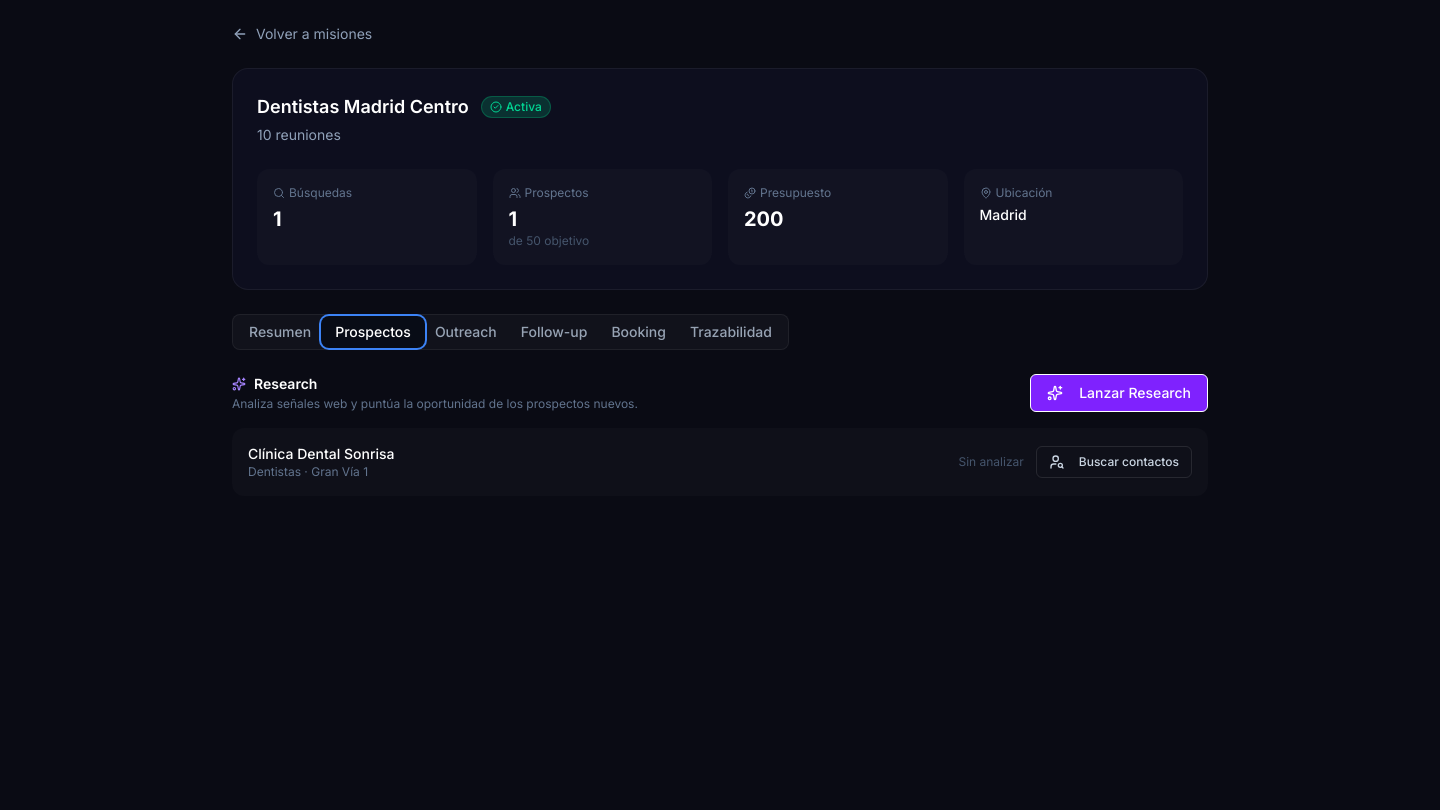
Scenario: Booking › 18. crea una cita de invitado (guest booking) sin enviar clientId, con 0 créditos
Earlier steps of the test are not shown.
Expected: the text "Clínica Dental Sonrisa" is shown, [248,444,394,464]
Click the button with test id "find-contacts-100" at (1114,462), box [1036,446,1192,478]
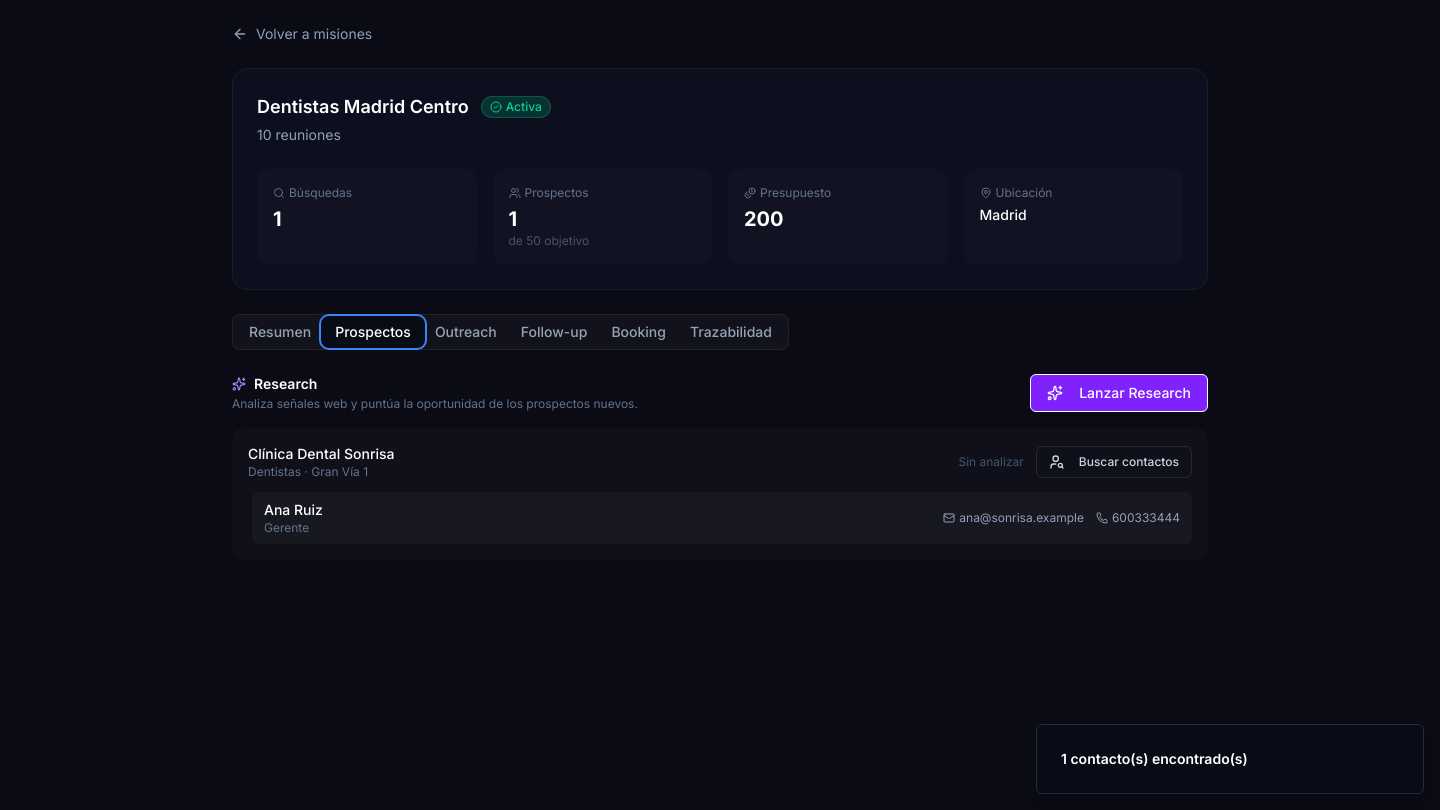
Result: the text "Ana Ruiz" is shown at [264,500,323,520]
Press the mouse on the tab with test id "tab-booking" at (639,332), box [599,318,678,346]
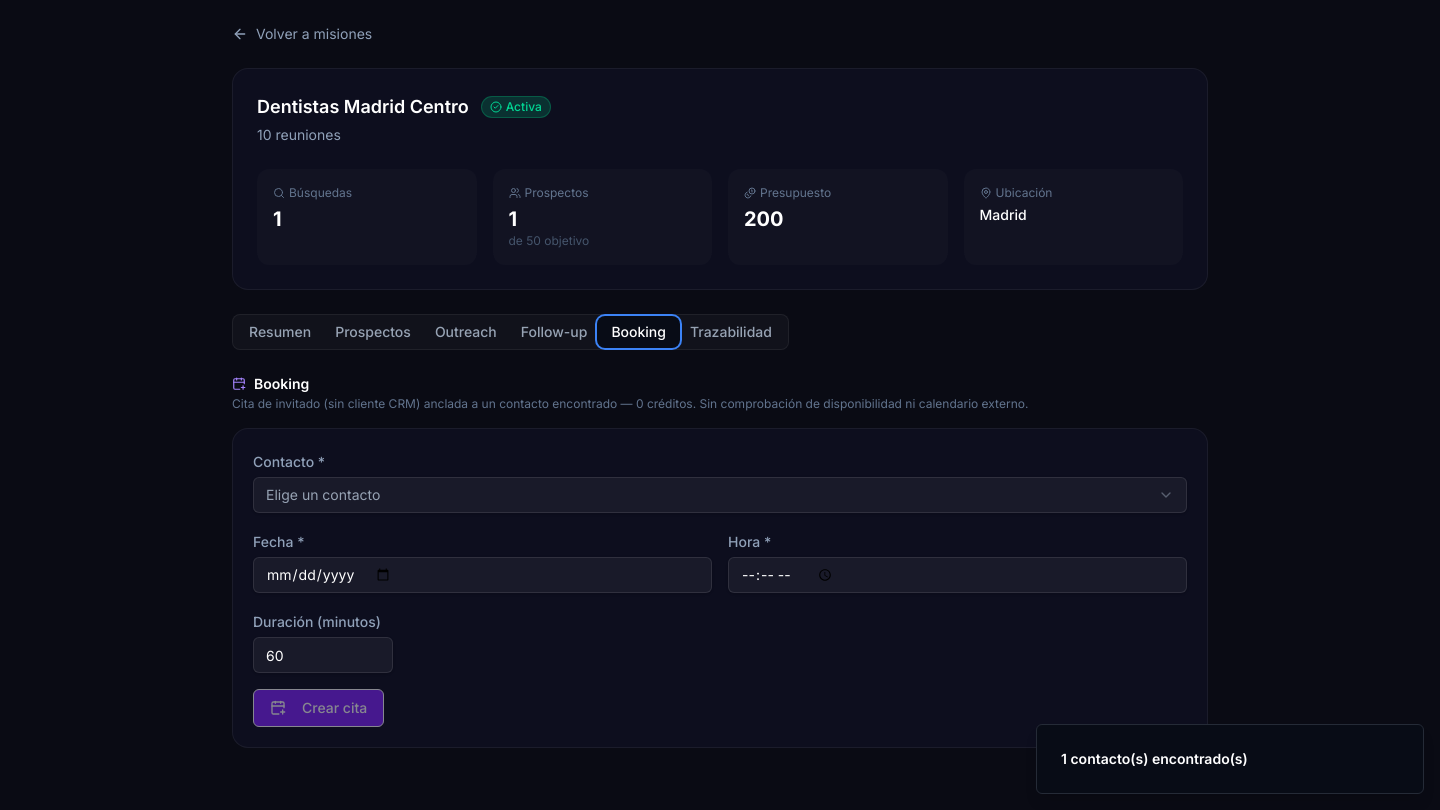
Click the dropdown with test id "booking-contact-select" at (323,494), box [253,477,1187,513]
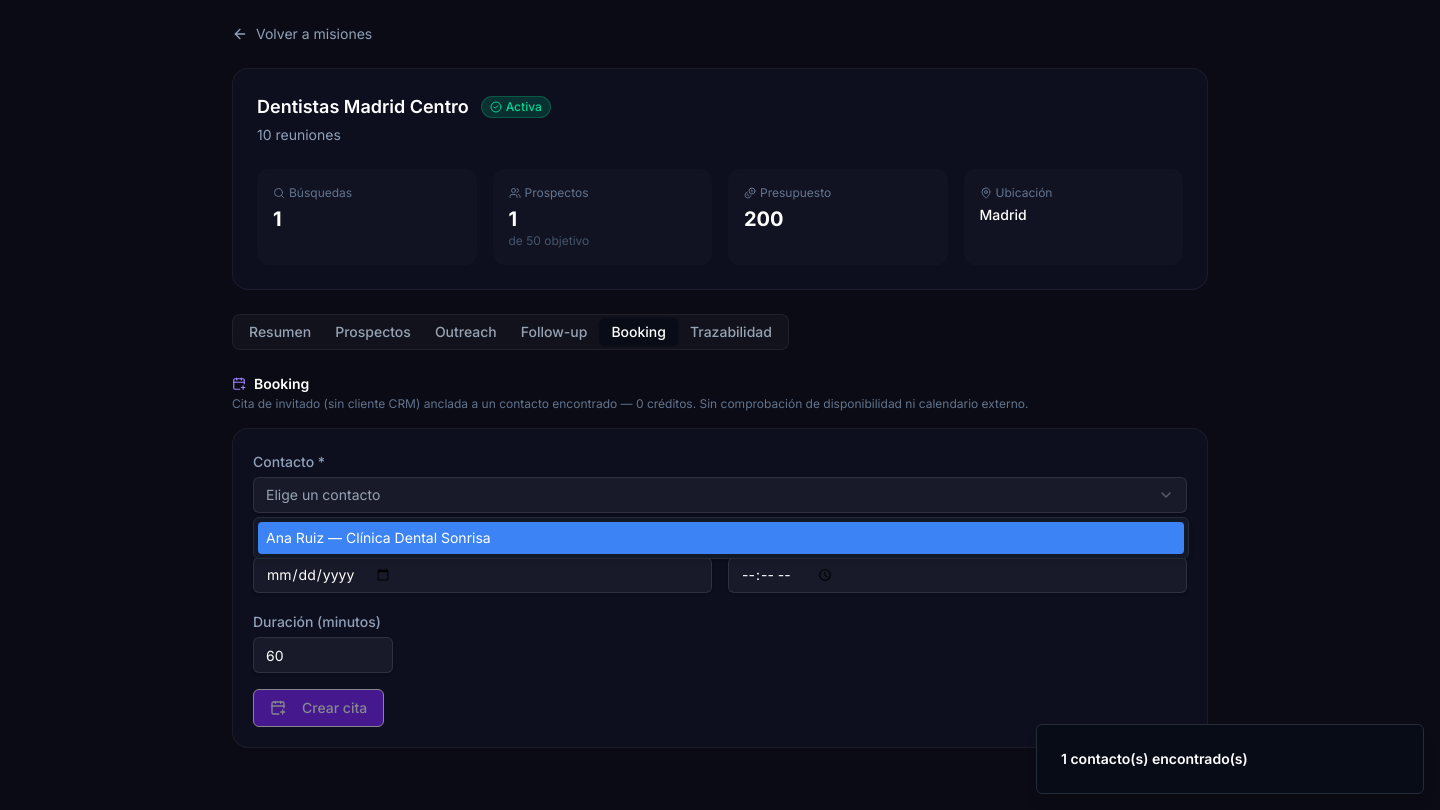
Click the option "Ana Ruiz — Clínica Dental Sonrisa" at (295,538), box [258,522,1184,554]
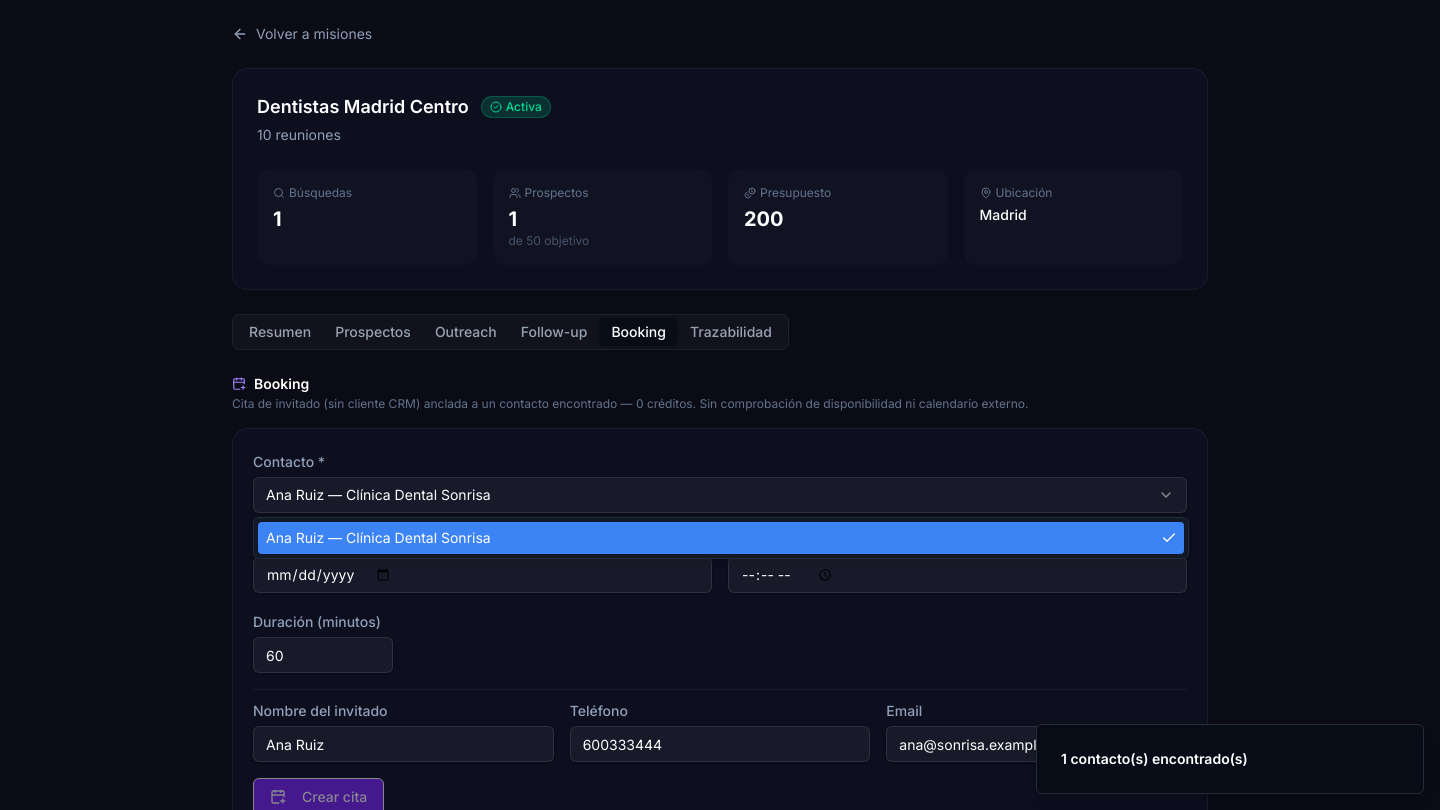
Type "2026-06-10" into the date field with test id "booking-date" at (482,575), box [253,557,712,593]
Type "10:00" into the time field with test id "booking-time" at (958,575), box [728,557,1187,593]
(page scrolled)
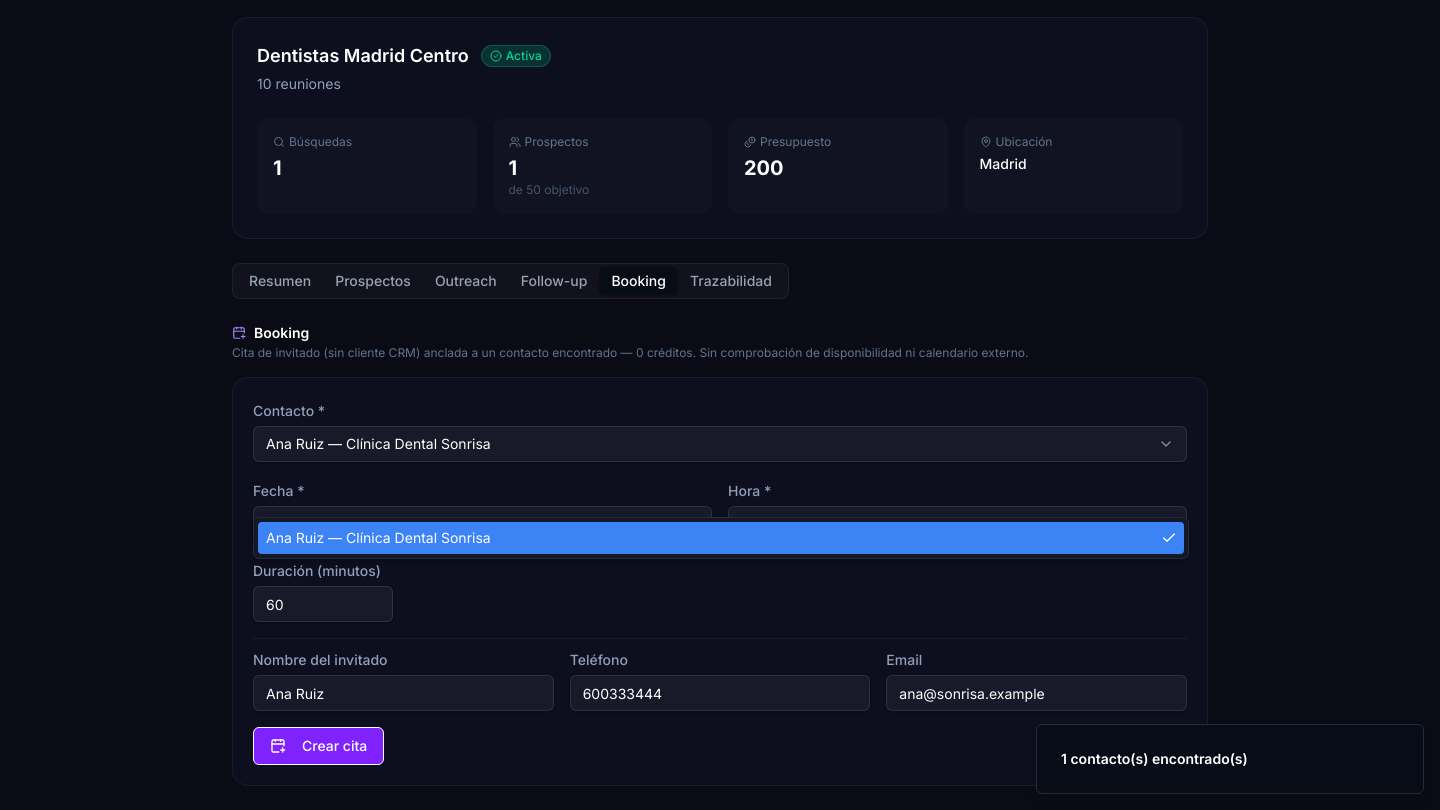
Click the button with test id "create-booking-btn" at (319,746), box [253,727,384,765]
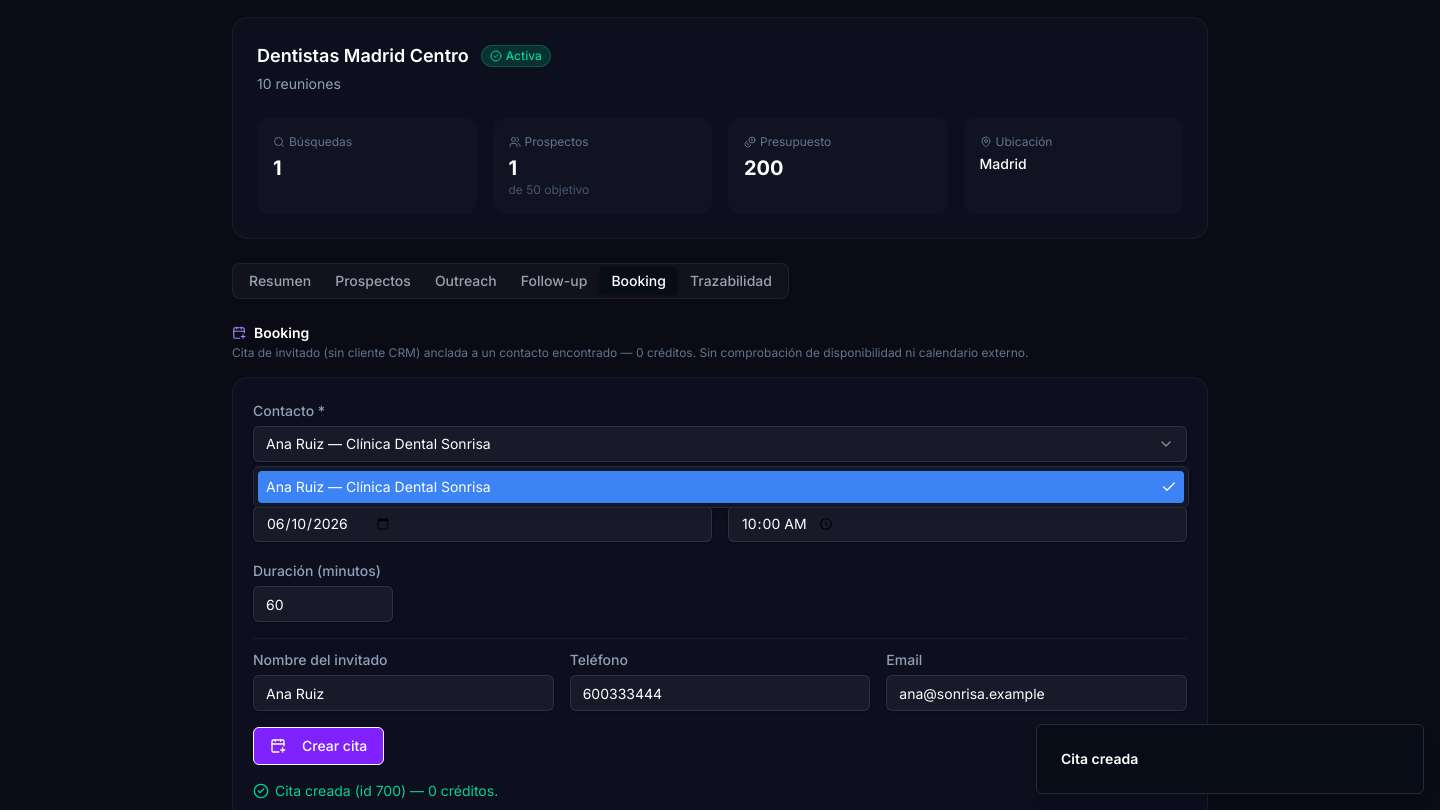
Result: the element with test id "booking-created" is shown at [253,782,498,799]
